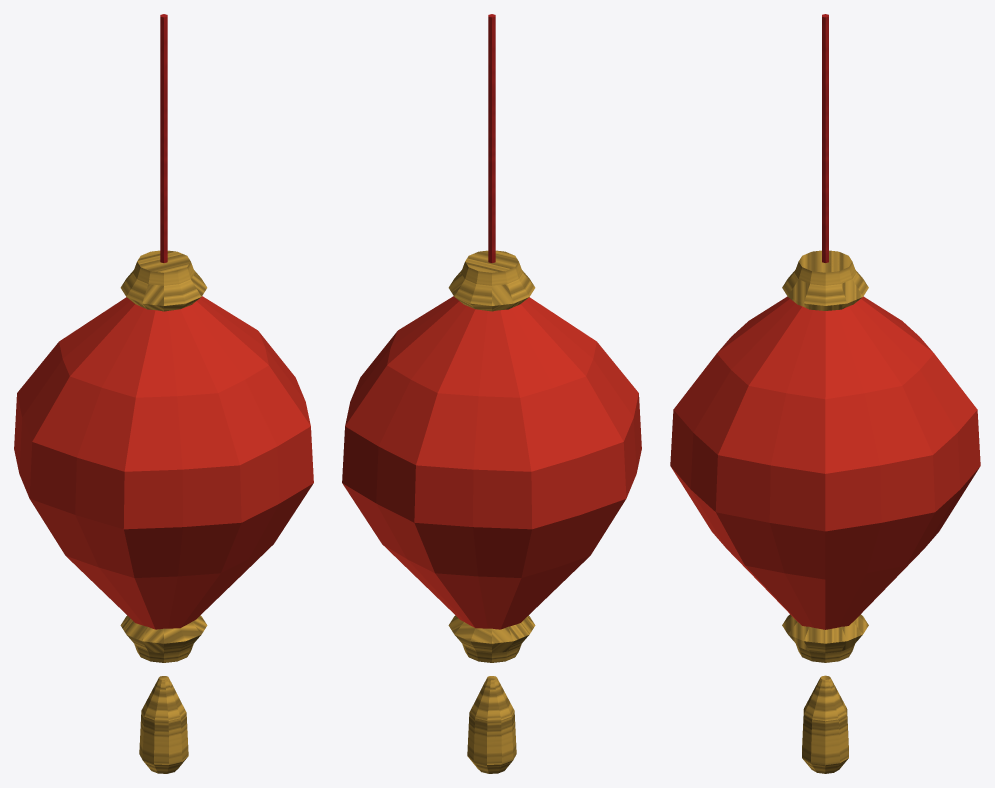
The model's file is red_lantern.fbx.
The picture shows the model from 3 angles, left to right: view 1: azimuth 30°, elevation 25°; view 2: azimuth 150°, elevation 25°; view 3: azimuth 270°, elevation 25°; orthographic projection.
Parts seen in each view (by area): view 1: red_lantern; view 2: red_lantern; view 3: red_lantern.
Part boxes in pixels (x1,y1,x2,y2): red_lantern: [14, 14, 313, 773]; red_lantern: [342, 14, 641, 773]; red_lantern: [670, 14, 980, 773].
Bounding box in the file's own units: 30 × 80.2 × 30.
